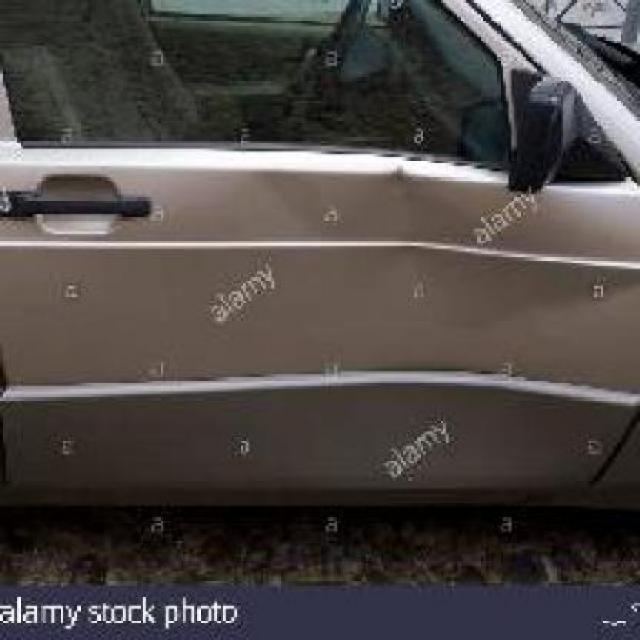damaged-door: (0, 0, 637, 503)
